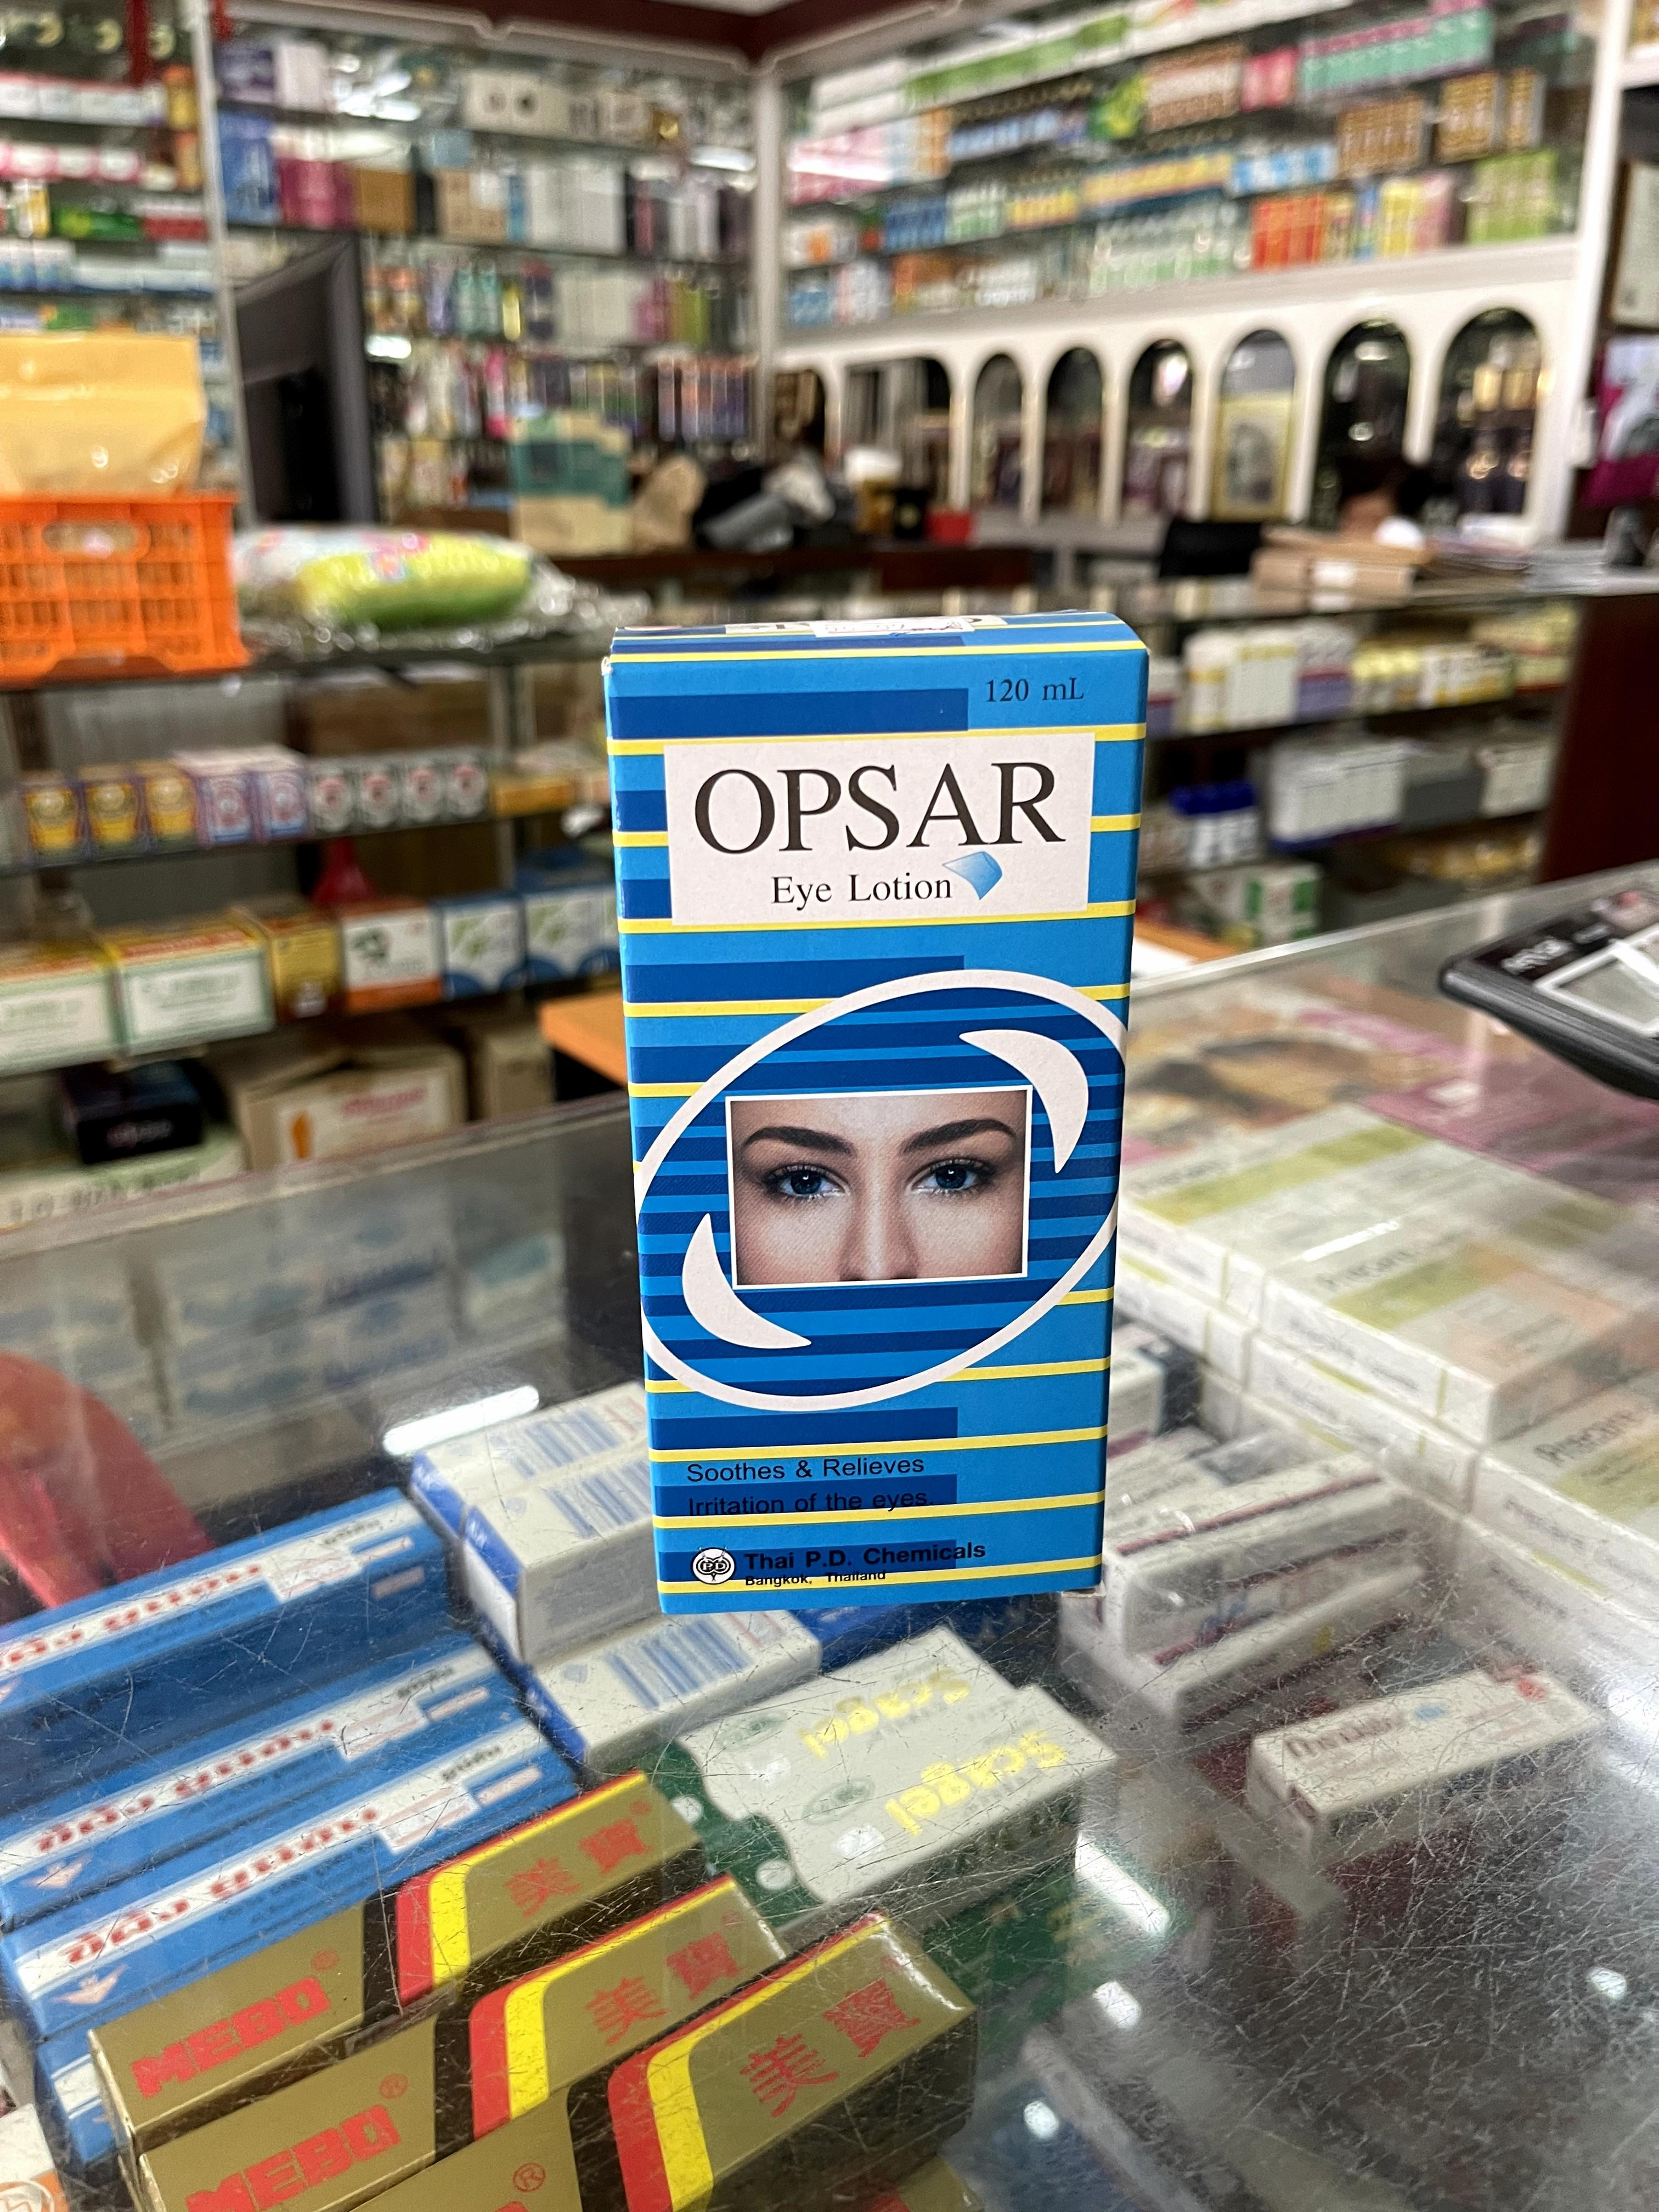Opsar: (603, 610, 1150, 1616)
